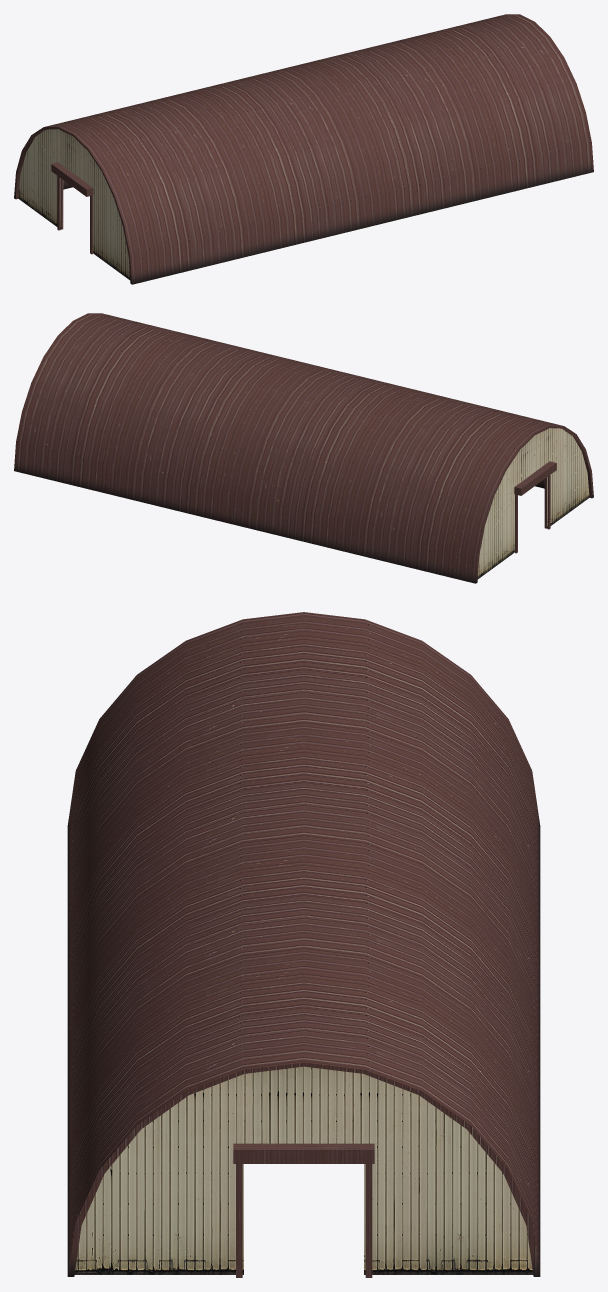
The model's file is r254_cherlak_angar.FBX.
The picture shows the model from 3 angles, top to bottom: view 1: azimuth 30°, elevation 25°; view 2: azimuth 150°, elevation 25°; view 3: azimuth 270°, elevation 25°; orthographic projection. The views are drawn at different scales.
Parts seen in each view (by area): view 1: r254_cherlak_angar; view 2: r254_cherlak_angar; view 3: r254_cherlak_angar.
Part boxes in pixels (<box>): r254_cherlak_angar: <box>14,14,593,284</box>; r254_cherlak_angar: <box>14,313,593,583</box>; r254_cherlak_angar: <box>67,612,540,1277</box>.
Bounding box in the file's own units: 40.71 × 17.73 × 8.92.
